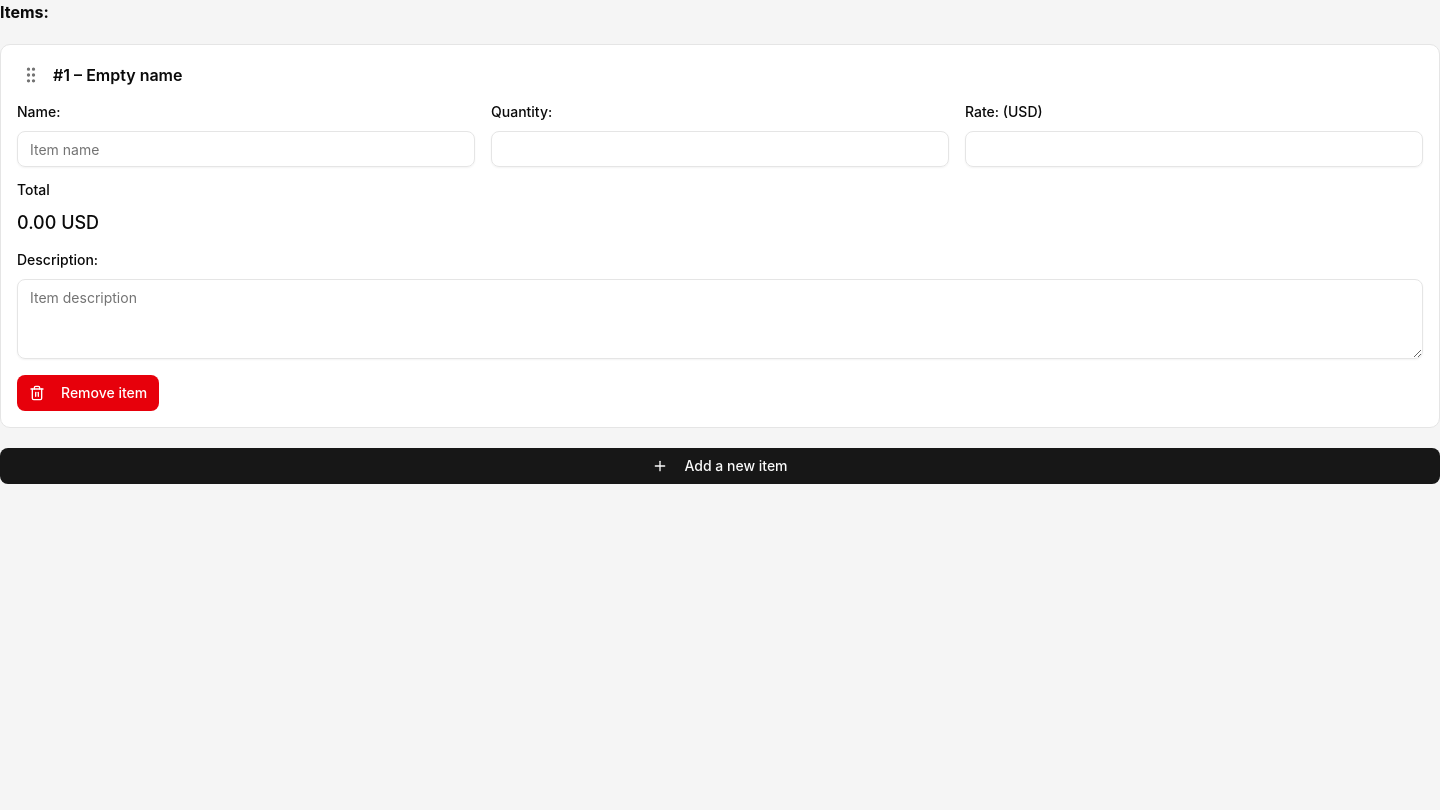
Scenario: LineItems › shows a confirmation alert dialog when Remove item is clicked
Click the button "Add a new item" at {"x": 720, "y": 466}, box [0, 448, 1439, 484]
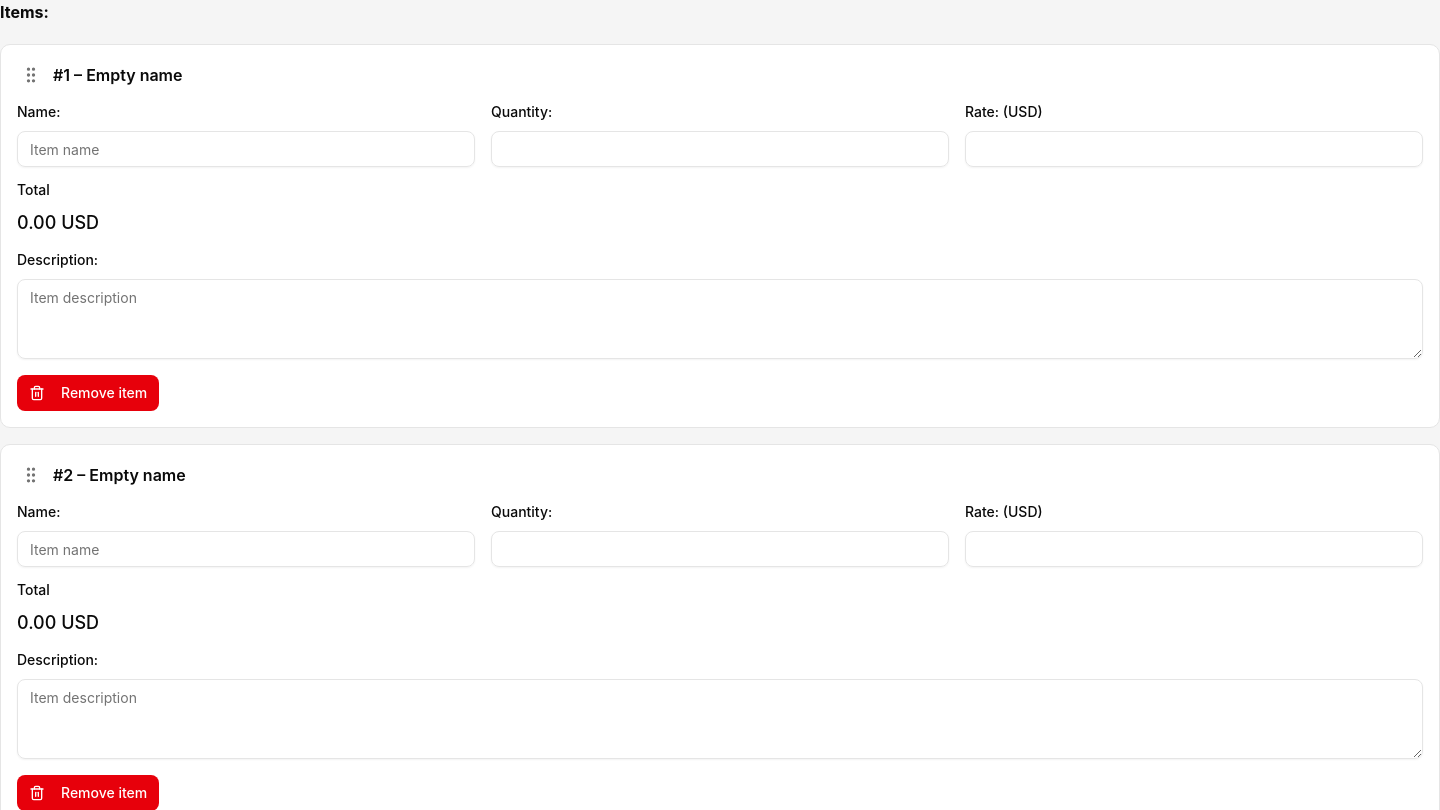
Click the 1st button "Remove item" at {"x": 88, "y": 393}, box [17, 375, 159, 411]
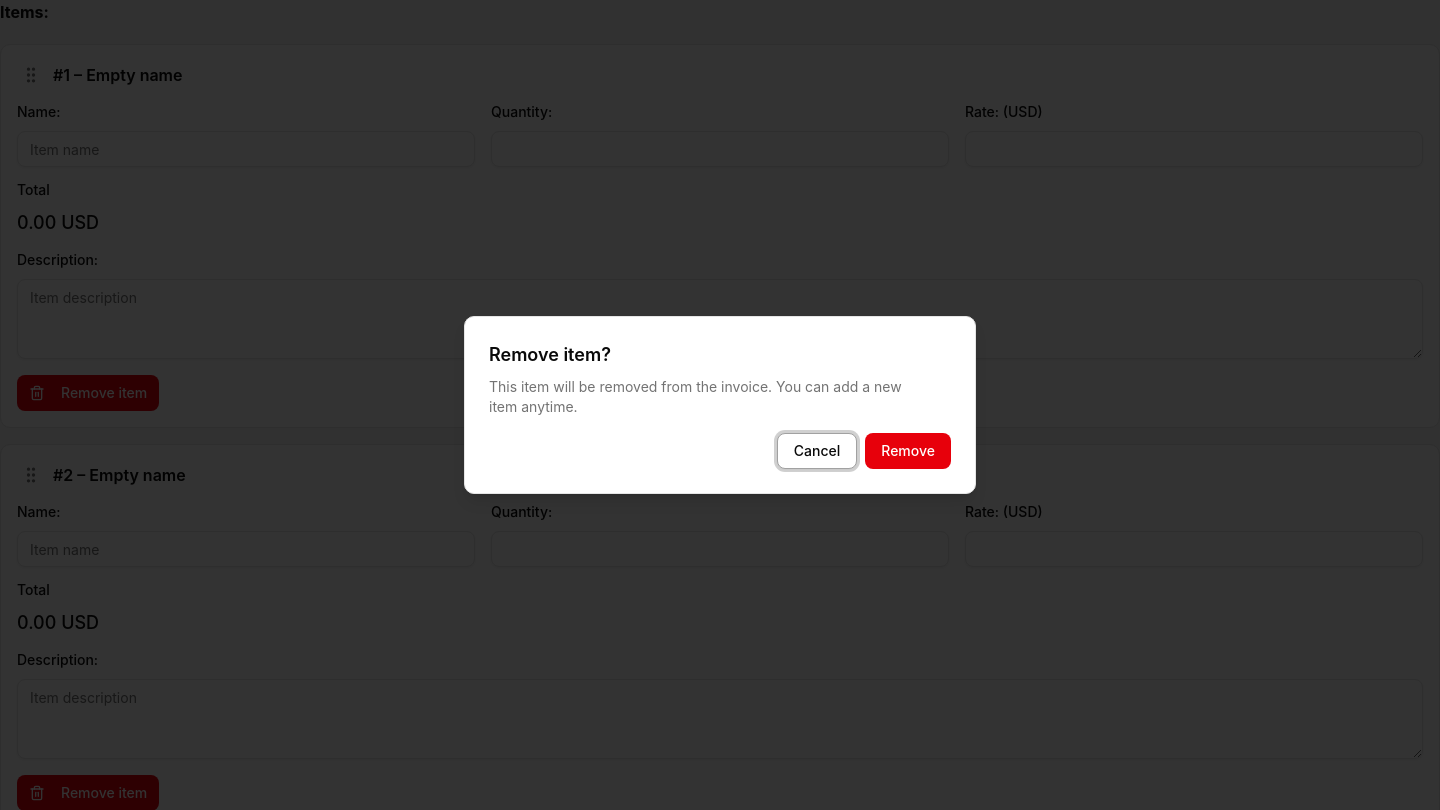
expect the dialog is shown: met, box [464, 316, 976, 494]
expect the heading "Remove item?" is shown: met, box [489, 344, 611, 365]
